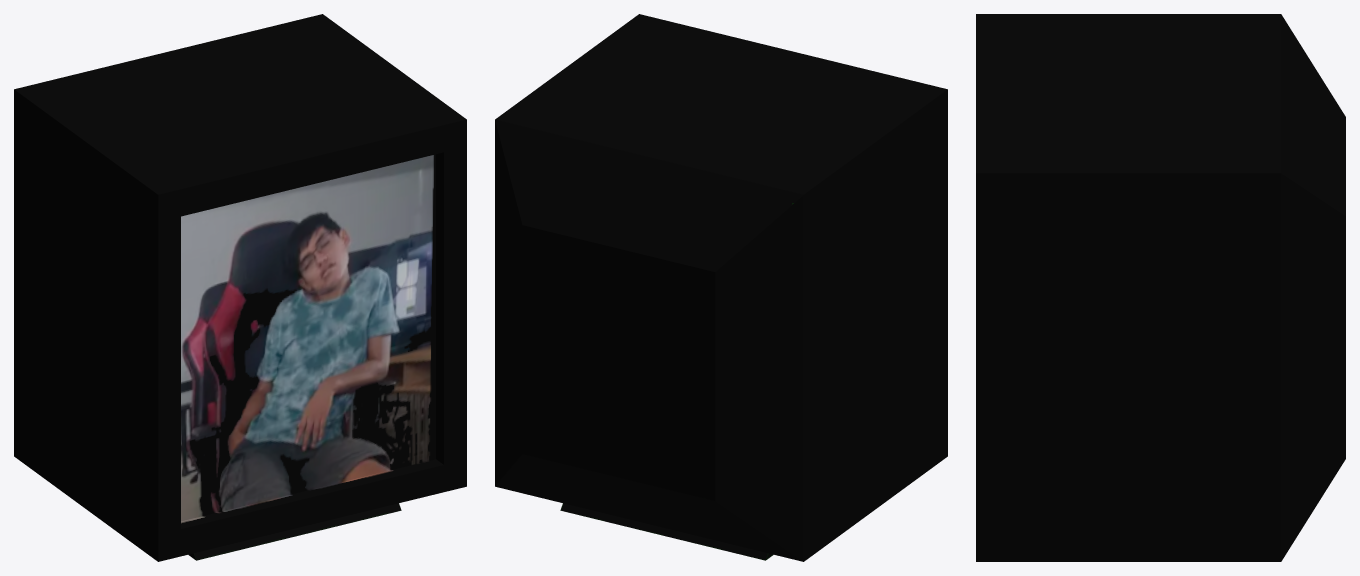
Rendered from Monitor.fbx.
3 views of the same model, side by side, from view 1: azimuth 30°, elevation 25°; view 2: azimuth 150°, elevation 25°; view 3: azimuth 270°, elevation 25° (orthographic). The views are drawn at different scales.
Visible parts, largest first — view 1: Monitor(mapeado)(texturizado); view 2: Monitor(mapeado)(texturizado); view 3: Monitor(mapeado)(texturizado).
Part boxes in pixels (bbox=[...]): Monitor(mapeado)(texturizado): bbox=[14, 14, 466, 561]; Monitor(mapeado)(texturizado): bbox=[495, 14, 947, 561]; Monitor(mapeado)(texturizado): bbox=[976, 14, 1345, 561].
Bounding box in the file's own units: 248 × 298 × 243.
